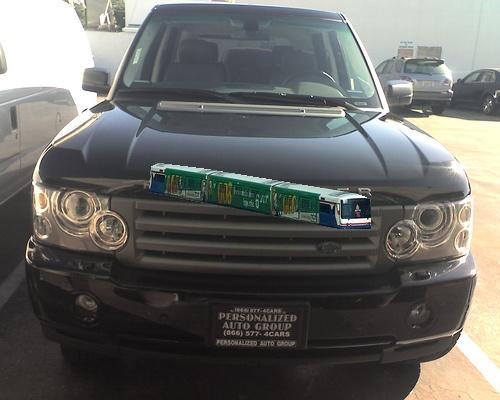tampered: (149, 164, 371, 229)
